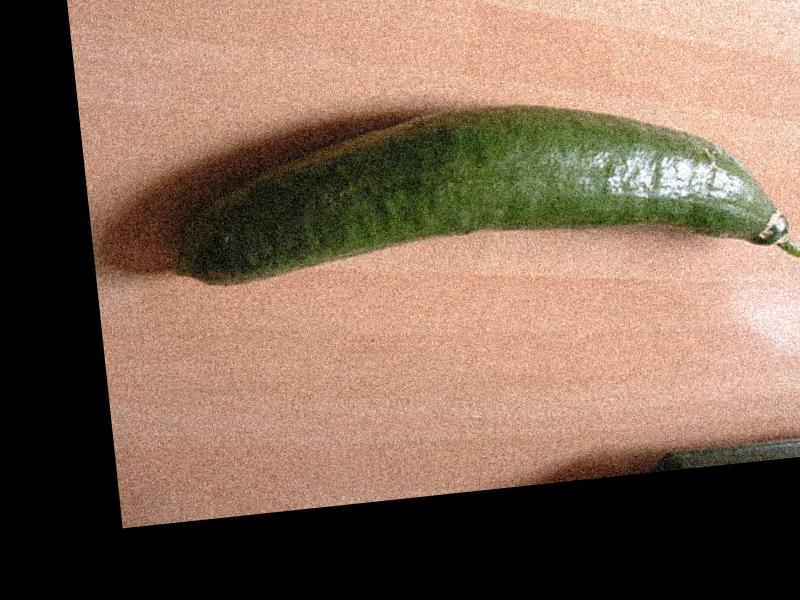Cucumber: (156, 71, 800, 322)
